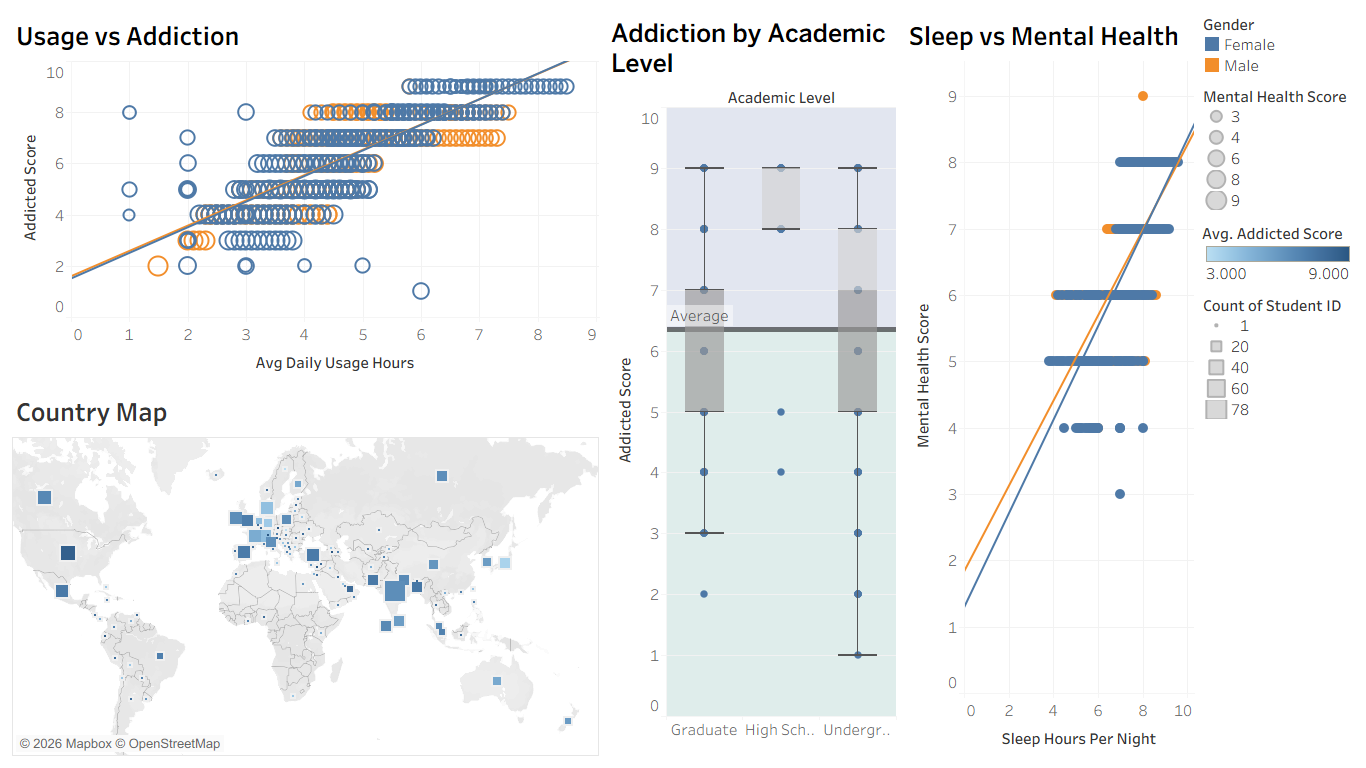

The page's visual inventory and layout, read from the dashboard file:
{"tool":"tableau","page":{"name":"Dashboard 3","canvas":[1366,768],"ordinal":2},"visuals":[{"type":"worksheet","title":"scatter plot","mark":"Automatic","rows":["Addicted_Score"],"cols":["Avg_Daily_Usage_Hours"],"box":[8,8,595,376]},{"type":"worksheet","title":"line chart","mark":"Circle","rows":["Mental_Health_Score"],"cols":["Sleep_Hours_Per_Night"],"box":[603,8,595,376]},{"type":"legend","title":"scatter plot","param":"[federated.0ibir9y0tnsdv21guqawn1yfv0rs].[none:Gender:nk]","box":[1198,8,160,72]},{"type":"legend","title":"scatter plot","param":"[federated.0ibir9y0tnsdv21guqawn1yfv0rs].[sum:Mental_Health_Score:qk]","box":[1198,80,160,156]},{"type":"legend","title":"country","param":"[federated.0ibir9y0tnsdv21guqawn1yfv0rs].[avg:Addicted_Score:qk]","box":[1198,236,160,73]},{"type":"legend","title":"country","param":"[federated.0ibir9y0tnsdv21guqawn1yfv0rs].[cnt:Student_ID:qk]","box":[1198,309,160,135]},{"type":"worksheet","title":"country","mark":"Square","box":[8,384,595,376]},{"type":"worksheet","title":"box plot","mark":"Circle","rows":["Addicted_Score"],"cols":["Academic_Level"],"box":[603,384,595,376]}]}

Visuals, with their boxes in screenshot pixels (x1, y1, x2, y2), scaled from the page's 1366x768 canvas onto the 1366x768 screenshot:
"scatter plot" worksheet: crop(8, 8, 603, 384)
"line chart" worksheet (Circle marks): crop(603, 8, 1198, 384)
"scatter plot" legend: crop(1198, 8, 1358, 80)
"scatter plot" legend: crop(1198, 80, 1358, 236)
"country" legend: crop(1198, 236, 1358, 309)
"country" legend: crop(1198, 309, 1358, 444)
"country" worksheet (Square marks): crop(8, 384, 603, 760)
"box plot" worksheet (Circle marks): crop(603, 384, 1198, 760)
